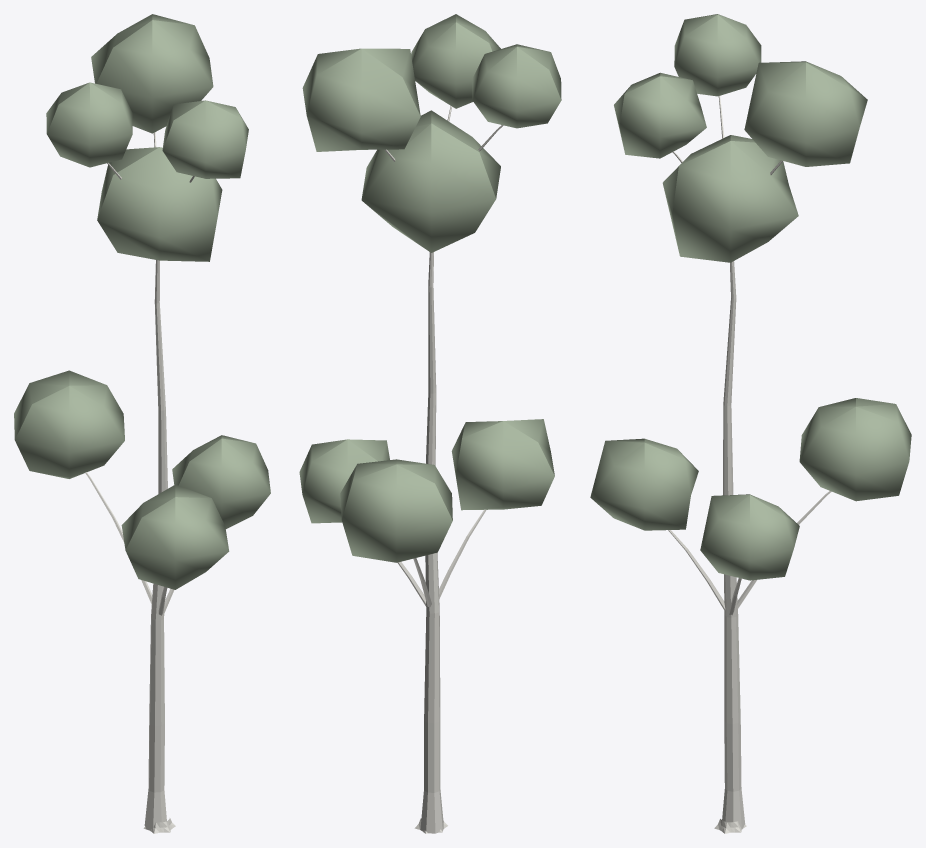
The model's file is dense-temperate-forest-flora-ash-young-636594e8__28325.glb.
The picture shows the model from 3 angles, left to right: view 1: azimuth 30°, elevation 25°; view 2: azimuth 150°, elevation 25°; view 3: azimuth 270°, elevation 25°; orthographic projection. The views are drawn at different scales.
Parts seen in each view (by area): view 1: ash-young; view 2: ash-young; view 3: ash-young.
Part boxes in pixels (bbox=[...]): ash-young: bbox=[14, 14, 270, 833]; ash-young: bbox=[299, 14, 561, 833]; ash-young: bbox=[590, 14, 911, 833].
Bounding box in the file's own units: 2 × 6.24 × 2.33.
